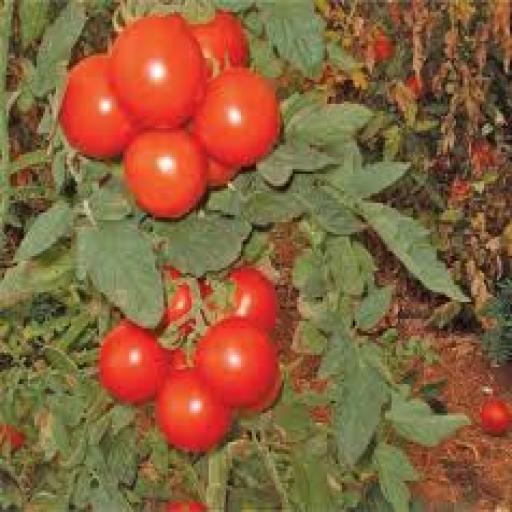tomato: (110, 15, 206, 127), (194, 68, 279, 166), (194, 317, 279, 408), (61, 56, 135, 156), (125, 131, 206, 217), (158, 370, 232, 451), (99, 322, 167, 403), (192, 13, 247, 72), (231, 269, 277, 330), (241, 375, 281, 415), (162, 283, 193, 328), (162, 283, 193, 326), (480, 399, 511, 434), (207, 160, 238, 188), (472, 141, 496, 176), (0, 426, 25, 451), (375, 29, 393, 62), (168, 348, 189, 371), (450, 177, 471, 200), (405, 75, 423, 99), (11, 170, 32, 188), (166, 503, 206, 511)
